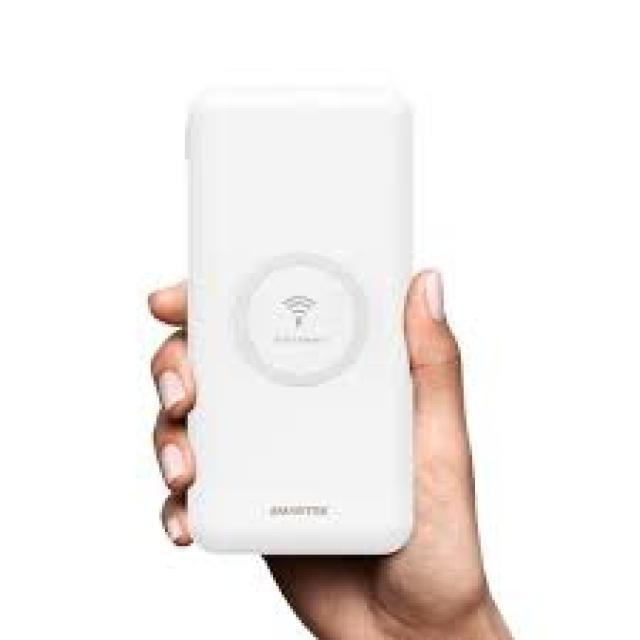portable-charger: (187, 82, 418, 556)
